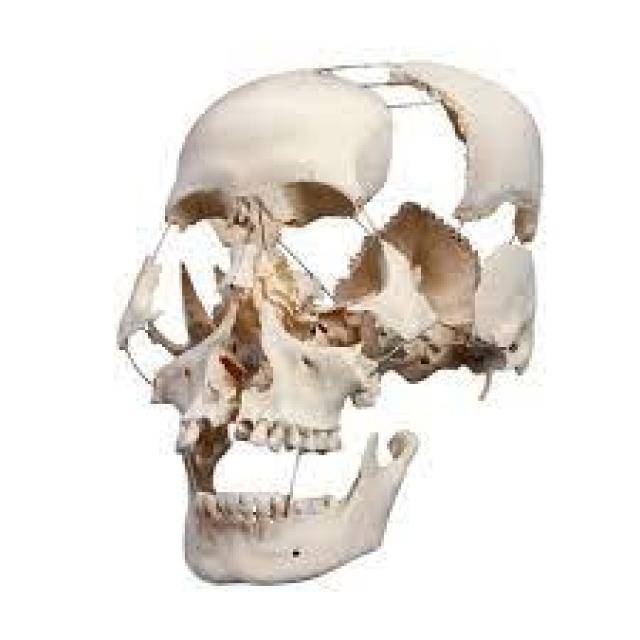skull: (111, 0, 562, 607)
